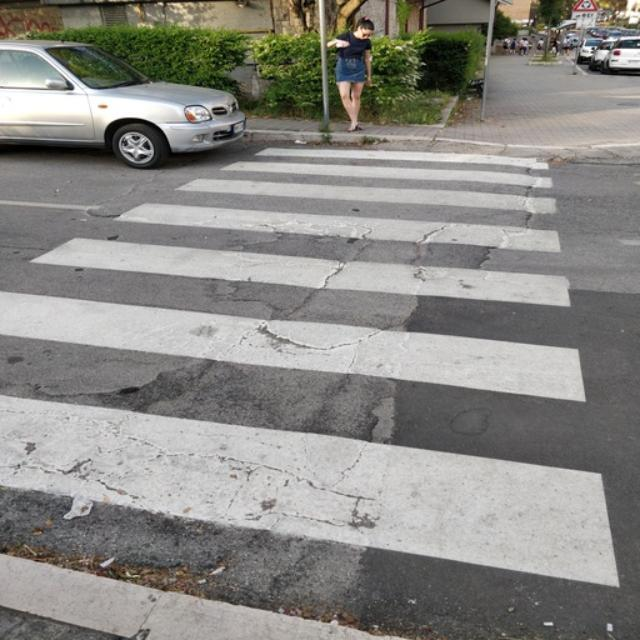sidewalk: (0, 140, 627, 640)
